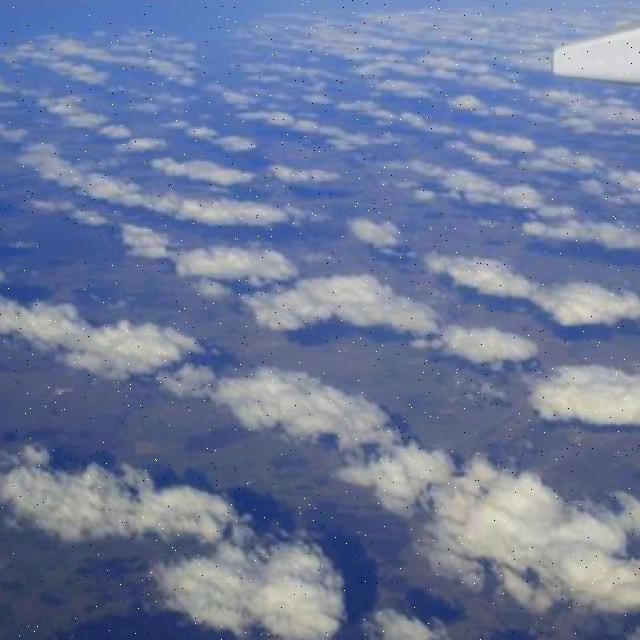Cu: (1, 73, 640, 525)
